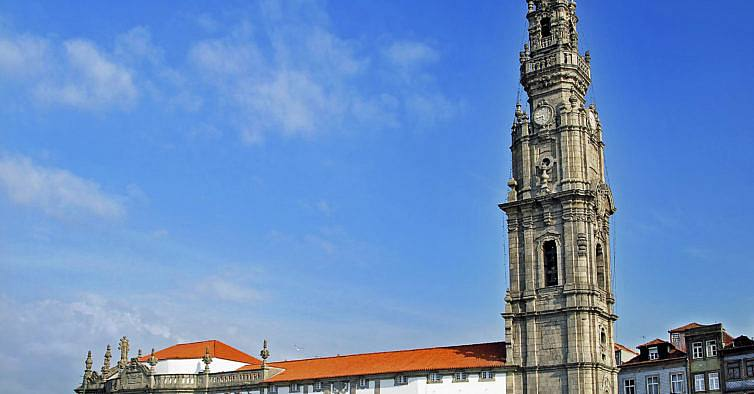clerigos: (495, 0, 621, 393)
